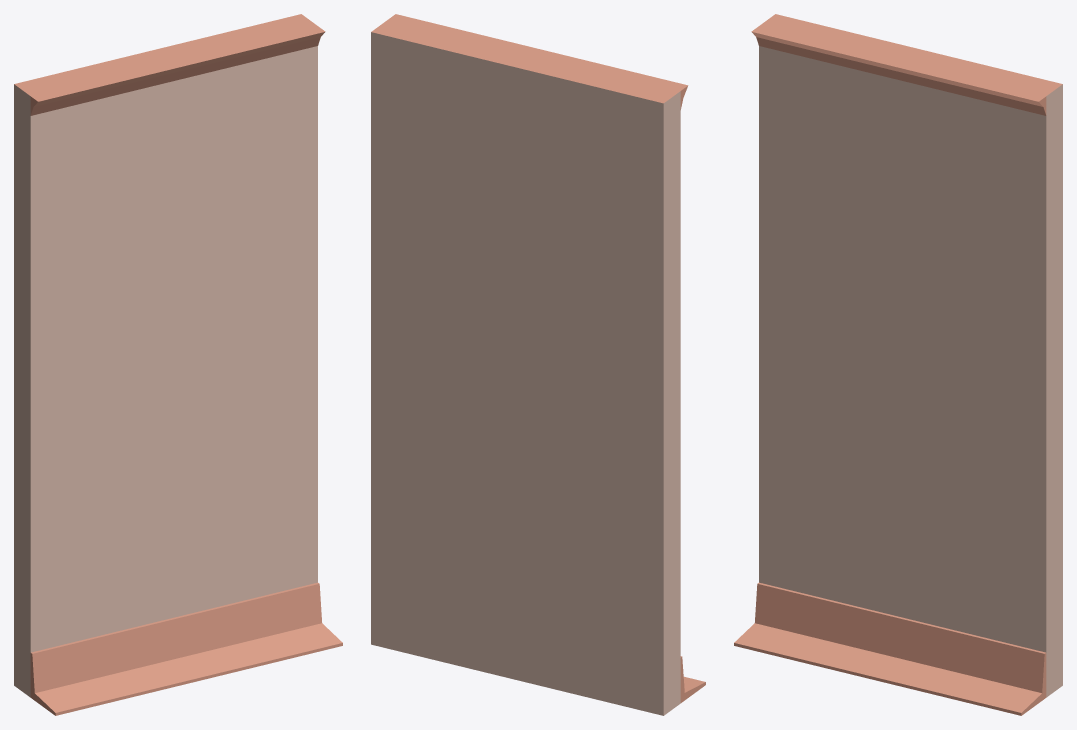
Rendered from wall1.glb.
3 renders of one model, left to right at view 1: azimuth 30°, elevation 25°; view 2: azimuth 150°, elevation 25°; view 3: azimuth 330°, elevation 25°, orthographic.
Parts seen in each view (by area): view 1: WallBig1; view 2: WallBig1; view 3: WallBig1.
Part boxes in pixels (box(x1,y1,x2,y2)): WallBig1: box(14, 14, 342, 715); WallBig1: box(371, 14, 705, 715); WallBig1: box(734, 14, 1062, 715).
Bounding box in the file's own units: 2 × 4 × 0.5.
Materials: 1 (1 with a texture image).
